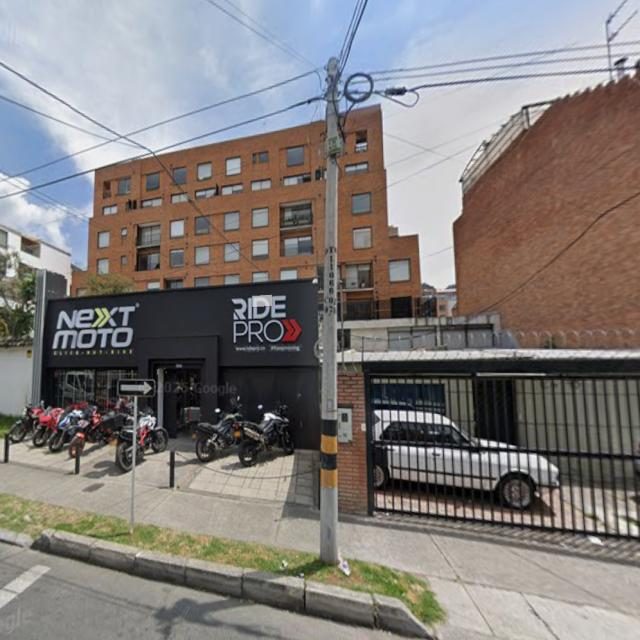fachada: (348, 326, 632, 563), (454, 75, 639, 347), (88, 123, 325, 290), (48, 299, 314, 446), (0, 224, 71, 294), (0, 224, 71, 292), (436, 286, 456, 318)
poste: (320, 57, 341, 564), (130, 396, 138, 534), (606, 15, 613, 81), (169, 450, 175, 488), (74, 441, 80, 474), (4, 434, 10, 464)
